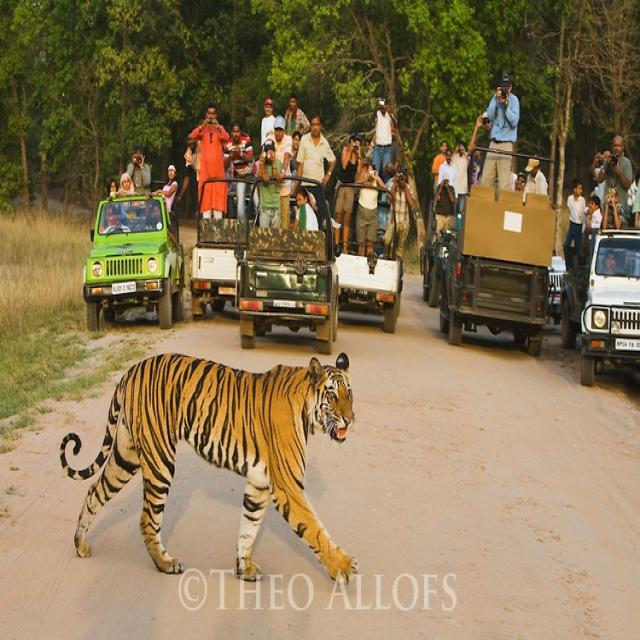body: (190, 100, 234, 221), (478, 74, 520, 192), (290, 110, 338, 200), (223, 120, 261, 222), (381, 162, 418, 262), (261, 114, 293, 229), (596, 132, 634, 228), (352, 158, 388, 258), (333, 134, 361, 255), (370, 95, 396, 210), (175, 128, 200, 227), (562, 176, 586, 278), (257, 138, 284, 228), (467, 110, 493, 179), (450, 138, 472, 219), (150, 162, 180, 218), (434, 173, 459, 239), (588, 147, 612, 211), (520, 156, 548, 208), (125, 143, 152, 196), (291, 186, 320, 234), (437, 146, 460, 206), (600, 184, 625, 237), (282, 93, 310, 137), (430, 138, 448, 194), (260, 96, 278, 147), (102, 208, 132, 235), (467, 146, 483, 193), (116, 170, 136, 206), (626, 170, 638, 230), (144, 198, 162, 232), (587, 193, 604, 229), (600, 247, 619, 274), (509, 166, 525, 194), (389, 127, 398, 160), (106, 178, 119, 200), (291, 129, 301, 150), (360, 137, 371, 154), (255, 146, 261, 177), (346, 136, 355, 147), (371, 130, 376, 148)
